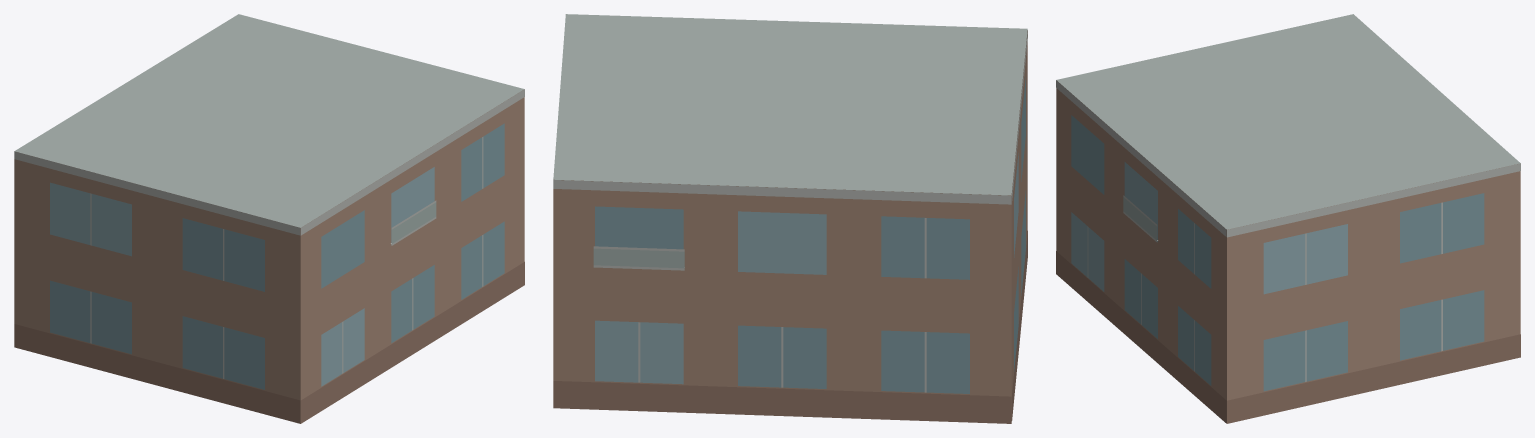
File: survey-upis-32773909.glb
The picture shows the model from 3 angles, left to right: view 1: azimuth 30°, elevation 25°; view 2: azimuth 150°, elevation 25°; view 3: azimuth 270°, elevation 25°; orthographic projection. The views are drawn at different scales.
Parts seen in each view (by area): view 1: survey-upis-32773909.tmp; view 2: survey-upis-32773909.tmp; view 3: survey-upis-32773909.tmp.
Part boxes in pixels (x1,y1,x2,y2): survey-upis-32773909.tmp: [14, 14, 524, 423]; survey-upis-32773909.tmp: [553, 14, 1027, 423]; survey-upis-32773909.tmp: [1056, 14, 1520, 423].
Size of the model in its own units: 14.55 by 6.1 by 13.24.
